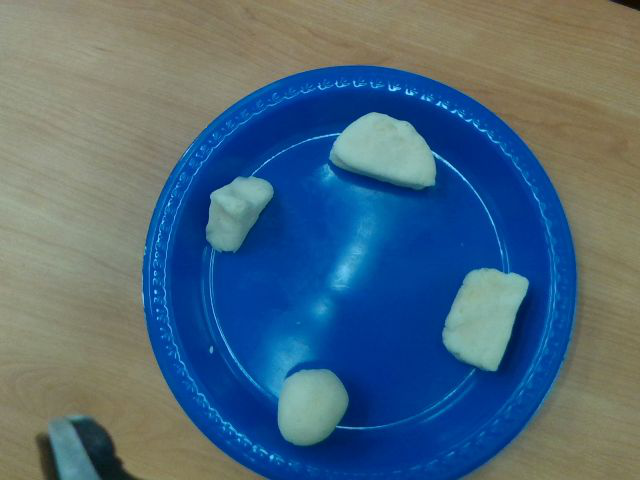mashed_potato: (443, 268, 529, 373), (331, 112, 437, 191), (278, 370, 349, 448), (207, 176, 273, 250)
